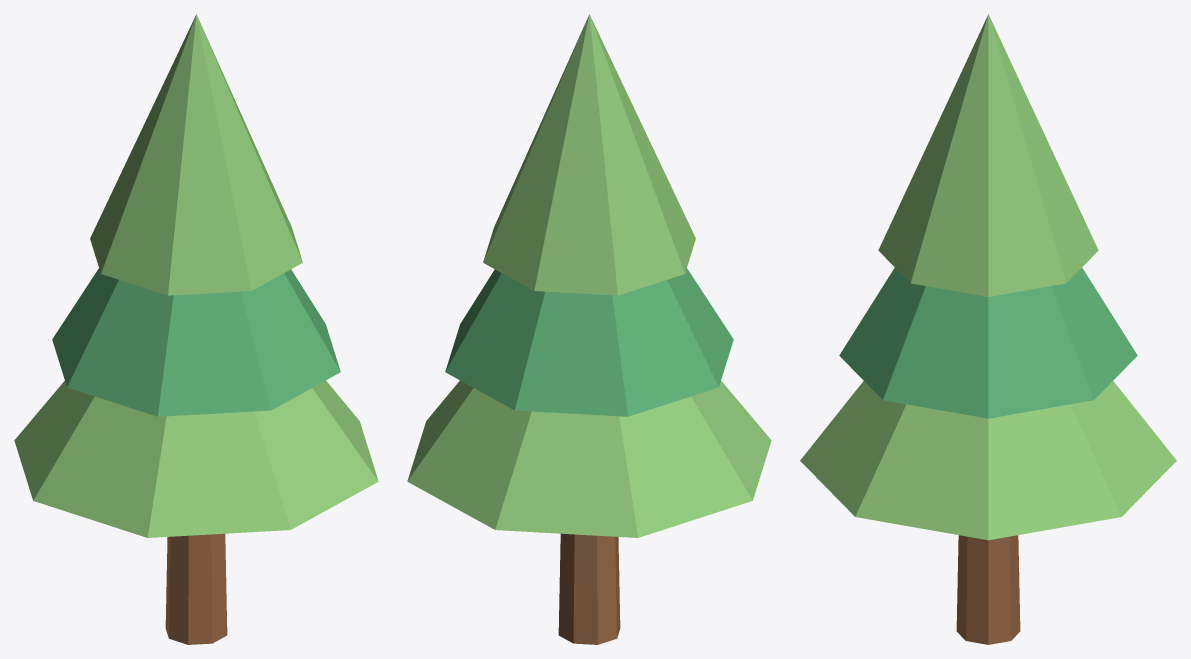
Rendered from pine.glb.
3 views of the same model, side by side, from view 1: azimuth 30°, elevation 25°; view 2: azimuth 150°, elevation 25°; view 3: azimuth 270°, elevation 25° (orthographic).
Parts seen in each view (by area): view 1: Pine crown, Pine crown.002, Pine crown.001, Trunk.001; view 2: Pine crown, Pine crown.002, Pine crown.001, Trunk.001; view 3: Pine crown, Pine crown.002, Pine crown.001, Trunk.001.
Boxes of the visible parts, <box> form: Pine crown: <box>14,380,378,537</box>; Pine crown.002: <box>90,14,302,295</box>; Pine crown.001: <box>52,268,340,416</box>; Trunk.001: <box>165,533,227,644</box>; Pine crown: <box>407,380,771,537</box>; Pine crown.002: <box>483,14,695,295</box>; Pine crown.001: <box>445,268,733,416</box>; Trunk.001: <box>558,533,620,644</box>; Pine crown: <box>800,381,1176,540</box>; Pine crown.002: <box>878,14,1098,296</box>; Pine crown.001: <box>839,267,1137,418</box>; Trunk.001: <box>956,535,1020,644</box>.
Size of the model in its own units: 2.6 by 4.7 by 2.6.
